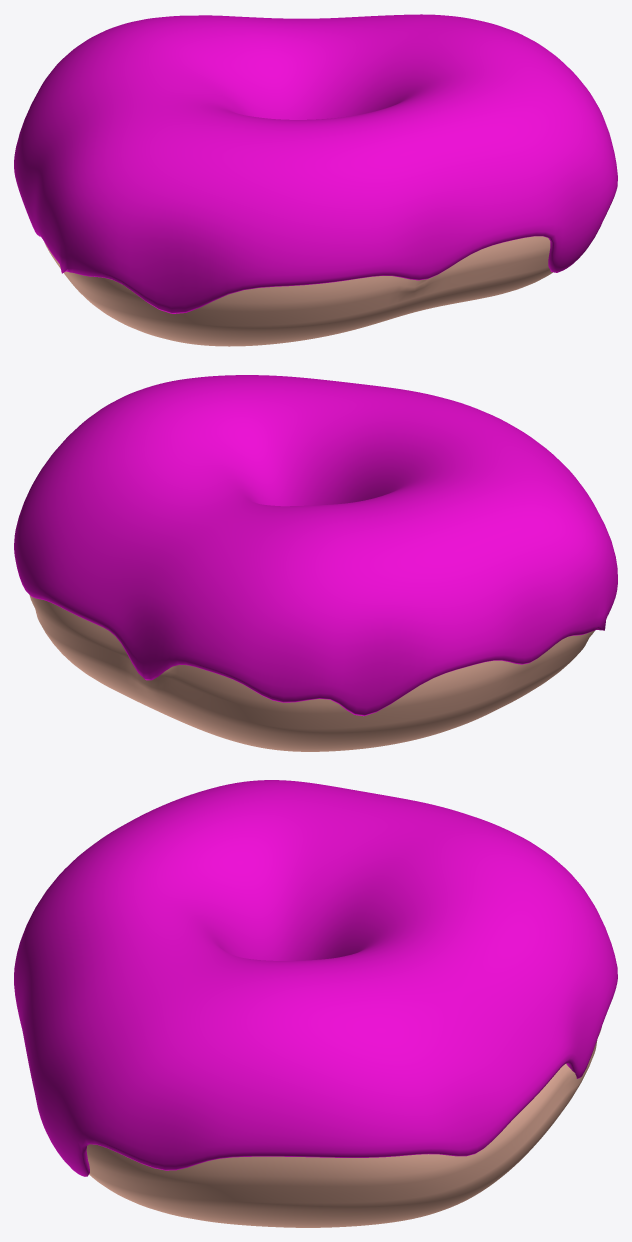
File: Donut.glb
The picture shows the model from 3 angles, top to bottom: view 1: azimuth 30°, elevation 25°; view 2: azimuth 150°, elevation 25°; view 3: azimuth 270°, elevation 25°; orthographic projection. The views are drawn at different scales.
Visible parts, largest first — view 1: Icing, Donut; view 2: Icing, Donut; view 3: Icing, Donut.
Part boxes in pixels (bbox=[...]): Icing: bbox=[14, 14, 617, 313]; Donut: bbox=[44, 236, 552, 346]; Icing: bbox=[14, 375, 617, 716]; Donut: bbox=[29, 595, 594, 751]; Icing: bbox=[14, 780, 617, 1176]; Donut: bbox=[86, 1027, 601, 1227].
Size of what is drawn, in the model's own units: 0.1065 by 0.0419 by 0.0924.
